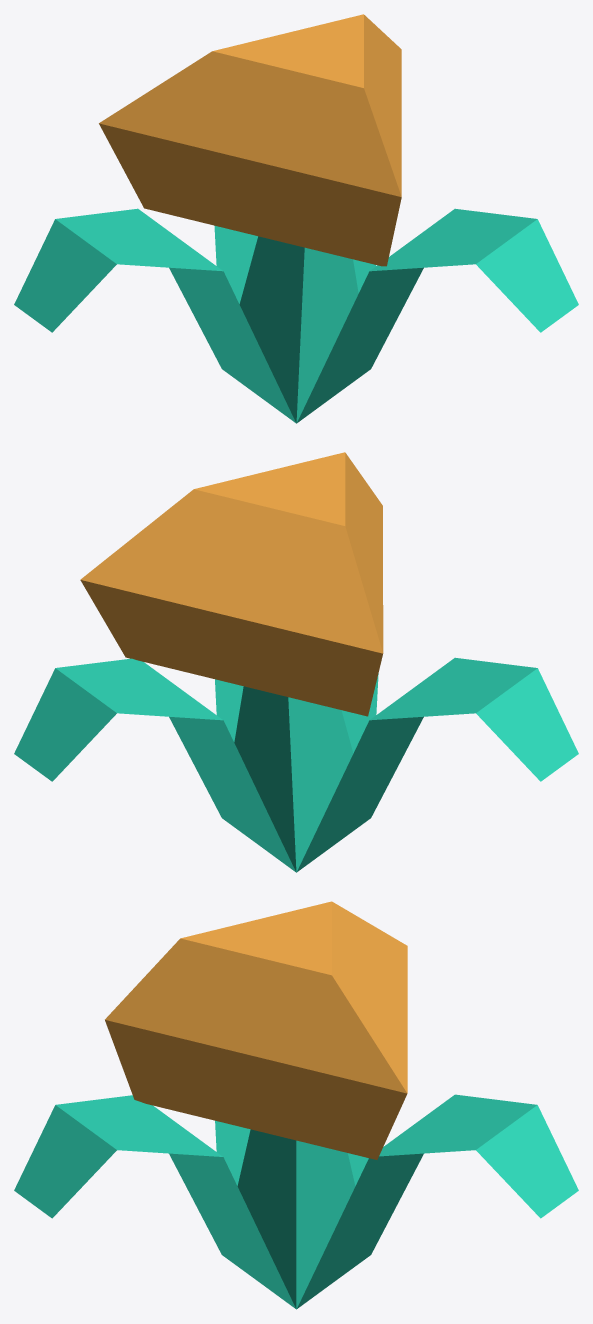
Rendered from flowerY.glb.
The picture shows the model from 3 angles, top to bottom: view 1: azimuth 30°, elevation 25°; view 2: azimuth 150°, elevation 25°; view 3: azimuth 270°, elevation 25°; orthographic projection.
Parts seen in each view (by area): view 1: flower_yellowB; view 2: flower_yellowB; view 3: flower_yellowB.
Boxes of the visible parts, left/top/right/bottom form: flower_yellowB: left=14, top=14, right=578, bottom=423; flower_yellowB: left=14, top=452, right=578, bottom=872; flower_yellowB: left=14, top=901, right=578, bottom=1309.
Bounding box in the file's own units: 0.2073 × 0.1585 × 0.2392.
